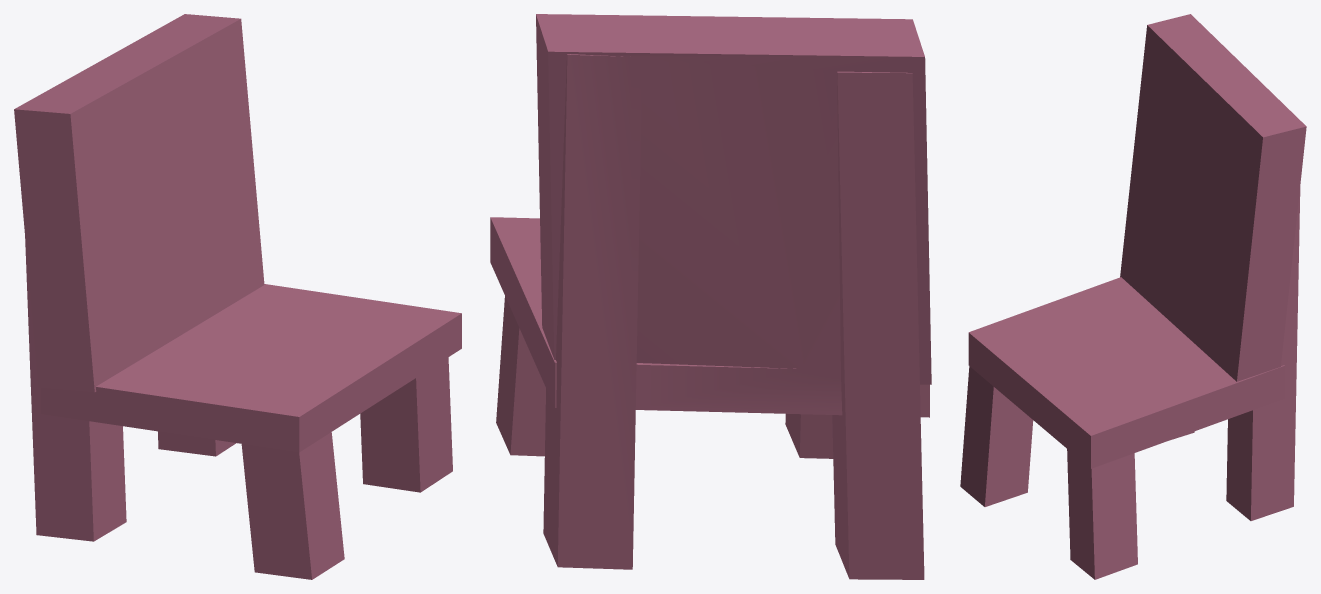
Rendered from silla3.obj.
3 renders of one model, left to right at view 1: azimuth 30°, elevation 25°; view 2: azimuth 150°, elevation 25°; view 3: azimuth 270°, elevation 25°, orthographic. The views are drawn at different scales.
Parts seen in each view (by area): view 1: polySurface46; view 2: polySurface46; view 3: polySurface46.
Boxes of the visible parts, x1,y1,x2,y2 form: polySurface46: [14, 14, 461, 579]; polySurface46: [490, 14, 931, 579]; polySurface46: [960, 14, 1306, 579].
Bounding box in the file's own units: 1.22 × 1.27 × 1.
